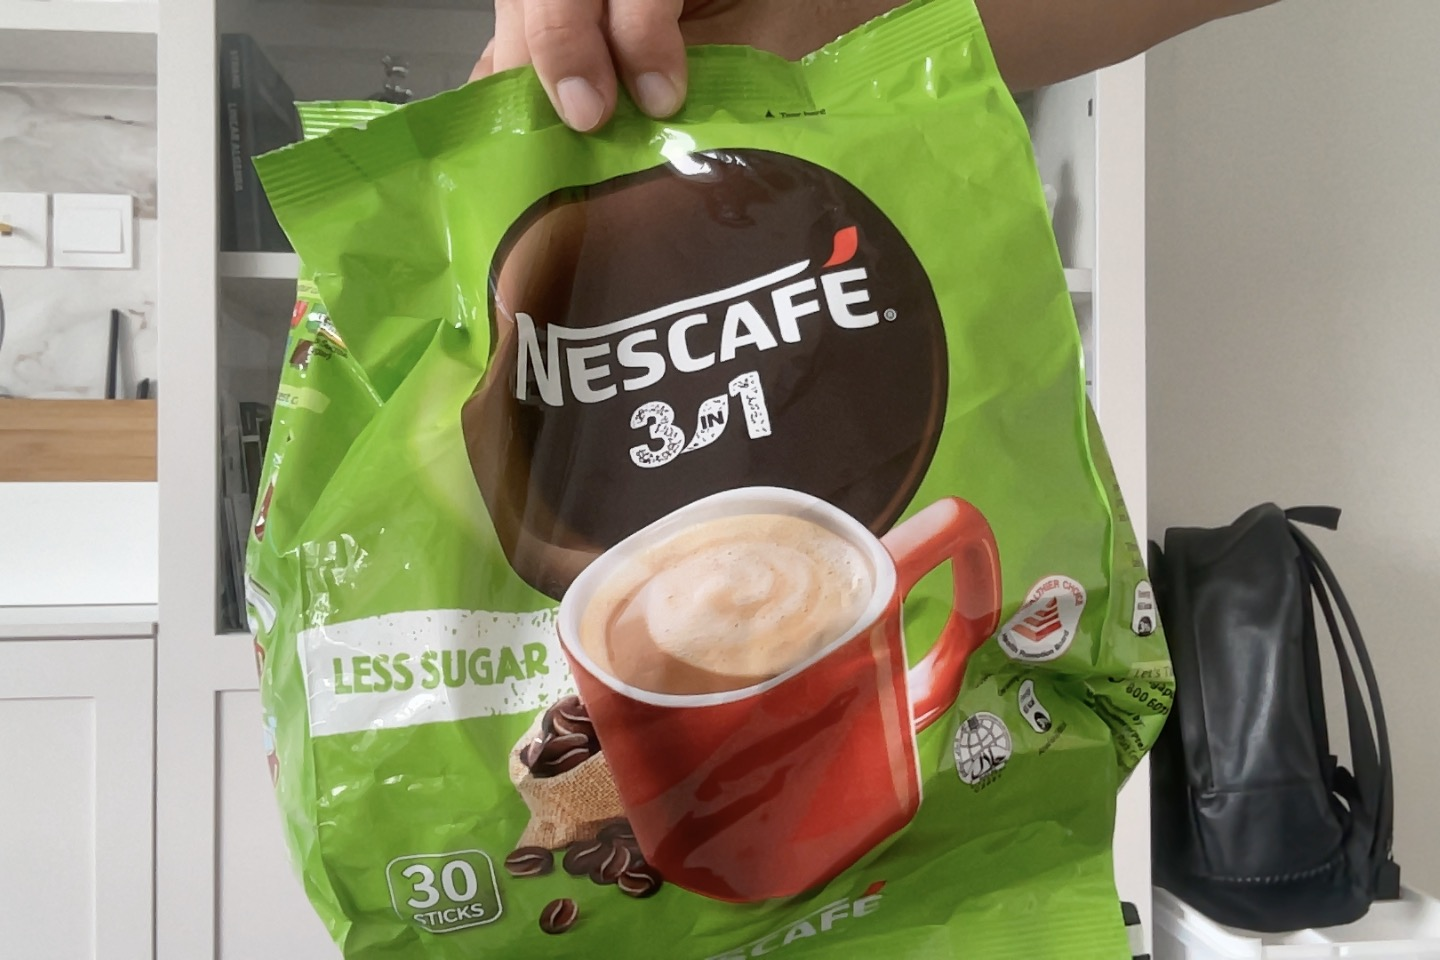Coffee_400-499g_Halal_Healthy: (541, 274, 1068, 835)
